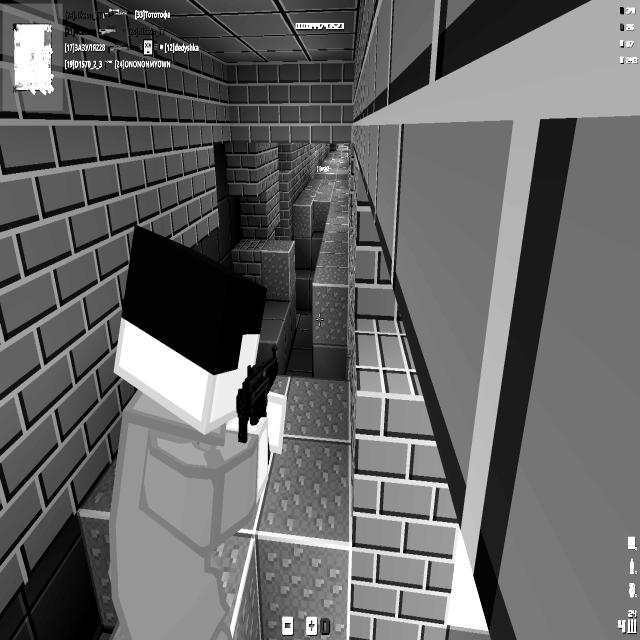Head: (113, 224, 268, 436)
Player: (107, 222, 284, 638)
